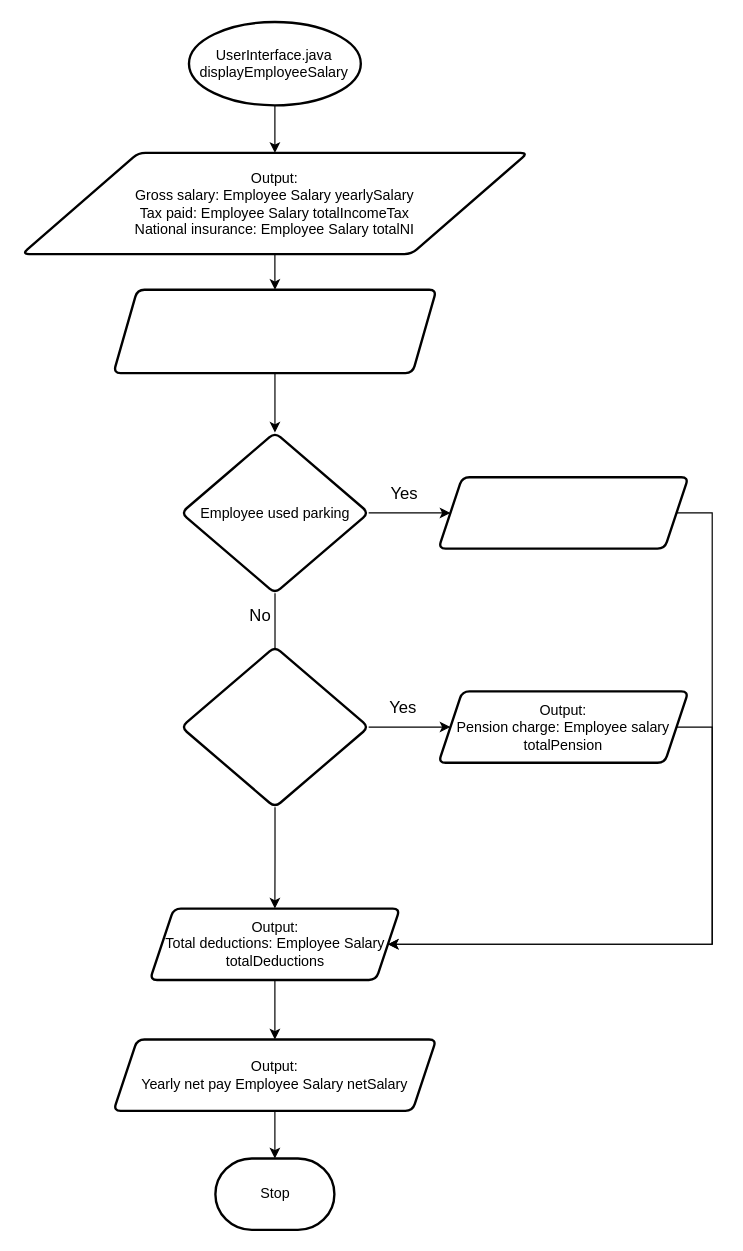
Image size: 743x1251. Some labels were removed from this diagram. The shapes that lost their labels are listed below. From the top down, each one's centre as x and y in pixels, then its label:
At point (274, 331): "Output: Optional deductions".
At point (563, 512): "Output: Parking charge: Employee salary totalParking".
At point (274, 726): "Employee wanted pension".
